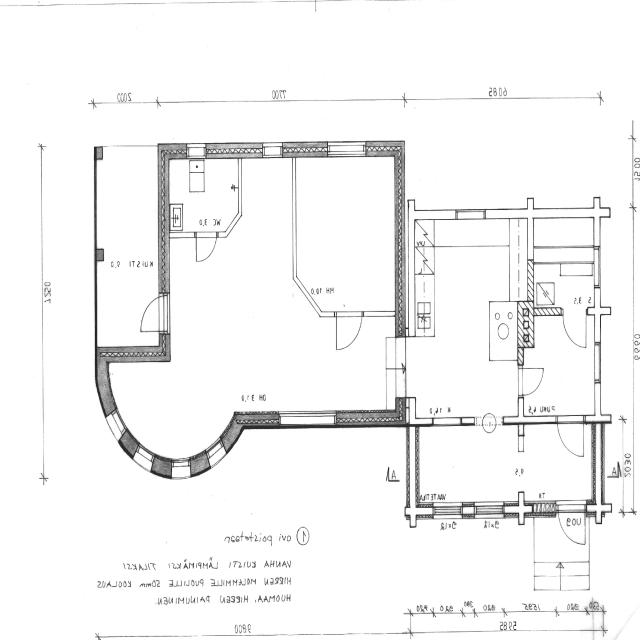door: (558, 502, 586, 557), (134, 296, 169, 331), (558, 418, 584, 463), (337, 310, 362, 351), (564, 308, 586, 347), (196, 232, 216, 266), (519, 369, 542, 394)
